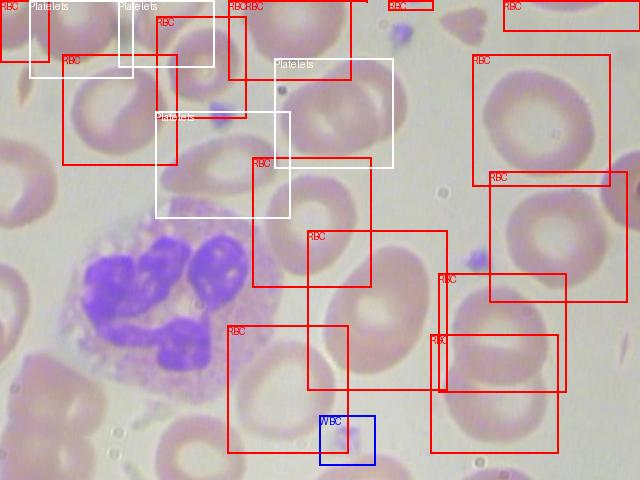Platelets: (155, 111, 290, 218), (274, 58, 393, 168), (29, 0, 133, 78), (118, 0, 214, 67)
RBC: (307, 230, 447, 390), (472, 54, 610, 186), (489, 171, 627, 302), (227, 325, 348, 453), (252, 157, 371, 287), (438, 273, 566, 392), (430, 334, 558, 453), (62, 54, 177, 165), (228, 0, 351, 80), (156, 16, 246, 118), (503, 0, 640, 31), (0, 0, 49, 62), (388, 0, 433, 10)
WBC: (319, 415, 375, 465)
